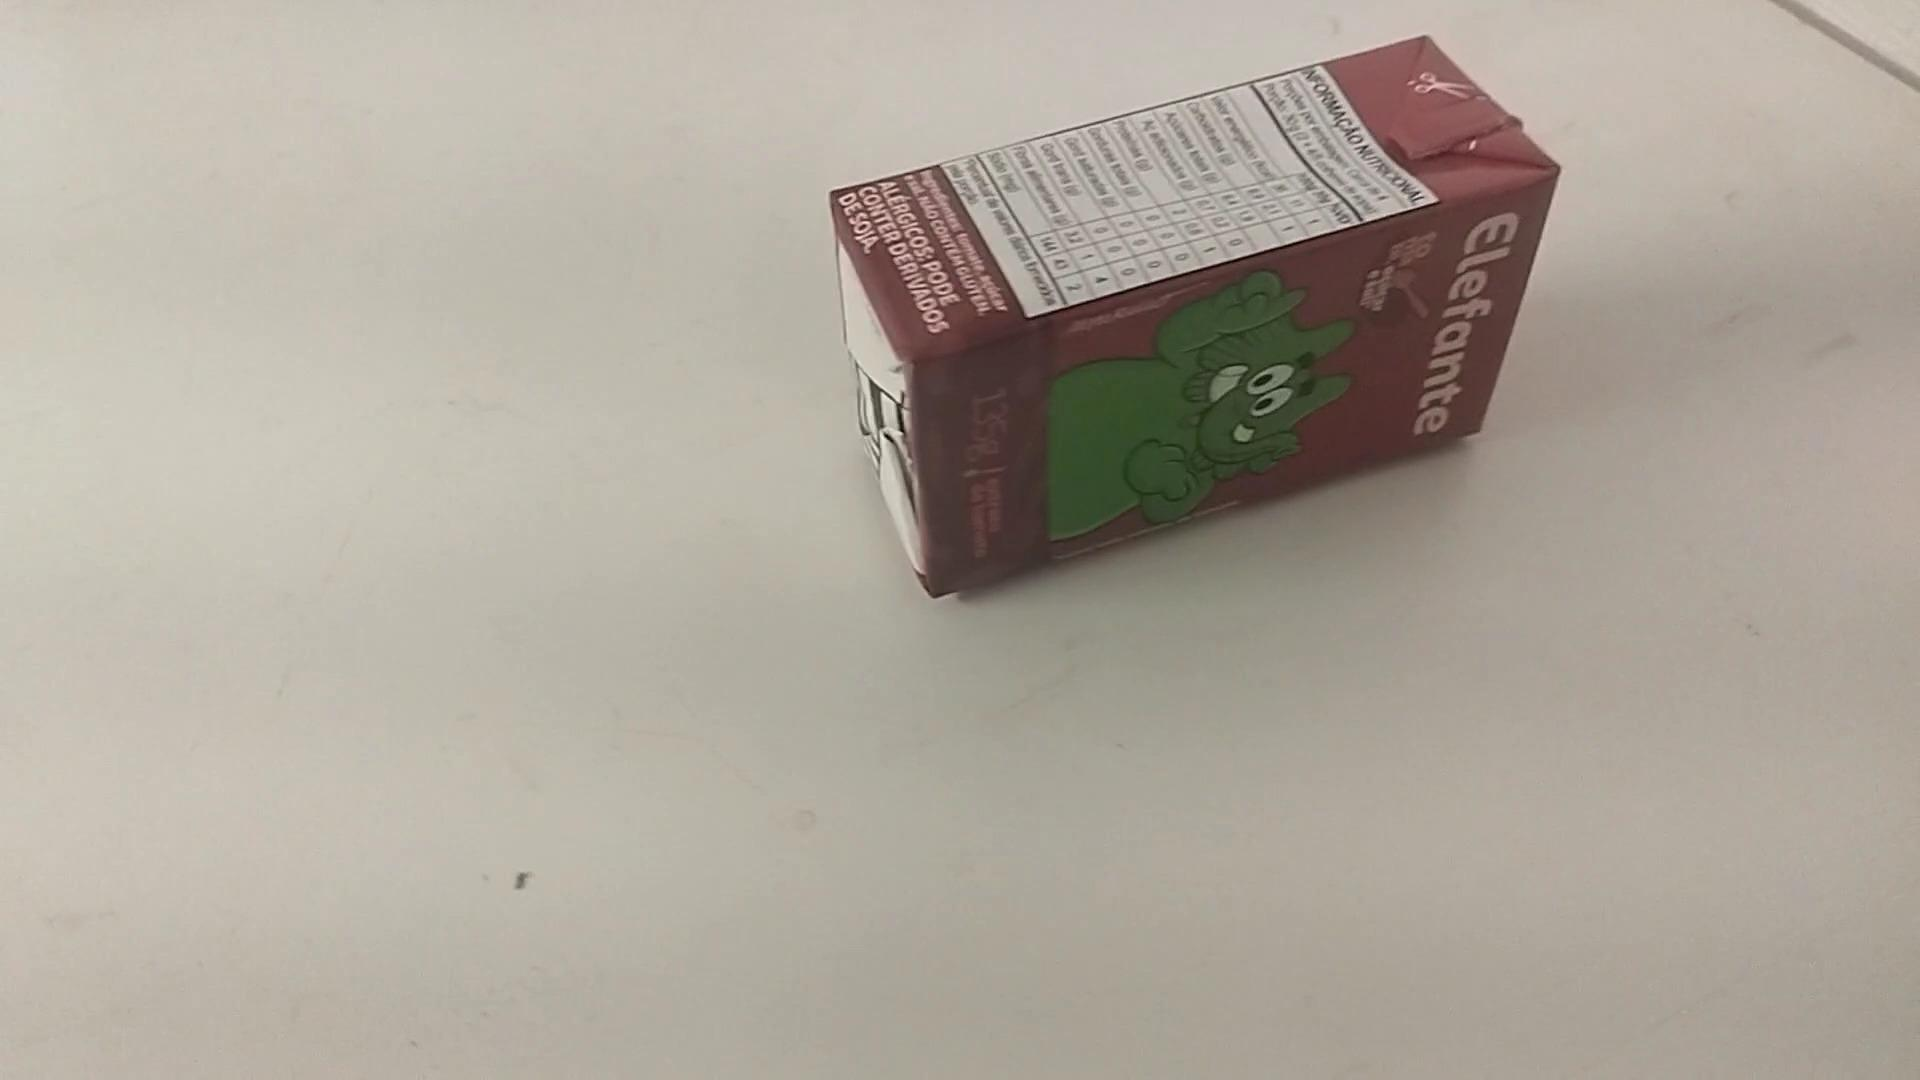tomate: (811, 24, 1563, 618)
